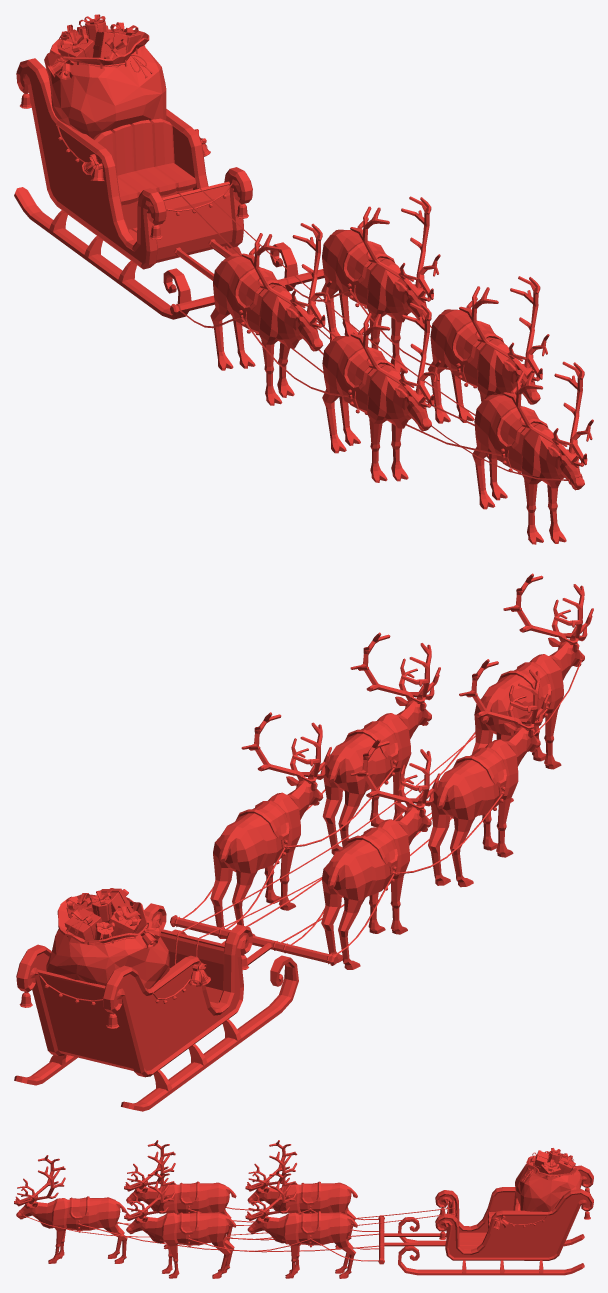
File: SM_Sleigh_Christmas.fbx
3 views of the same model, one above another, from view 1: azimuth 30°, elevation 25°; view 2: azimuth 150°, elevation 25°; view 3: azimuth 270°, elevation 25° (orthographic). The views are drawn at different scales.
Parts seen in each view (by area): view 1: sleigh-reindeers-wood, sleigh-santa, sleigh-bag; view 2: sleigh-reindeers-wood, sleigh-santa, sleigh-bag; view 3: sleigh-reindeers-wood, sleigh-santa, sleigh-bag.
Part boxes in pixels (x1,y1,x2,y2): sleigh-reindeers-wood: (170,187,593,544); sleigh-santa: (14,58,298,319); sleigh-bag: (44,14,166,138); sleigh-reindeers-wood: (170,573,593,969); sleigh-santa: (14,903,298,1111); sleigh-bag: (46,888,169,989); sleigh-reindeers-wood: (14,1140,457,1278); sleigh-santa: (398,1165,593,1275); sleigh-bag: (515,1148,581,1211).
Size of the model in its own units: 2.11 by 2.21 by 10.57.
